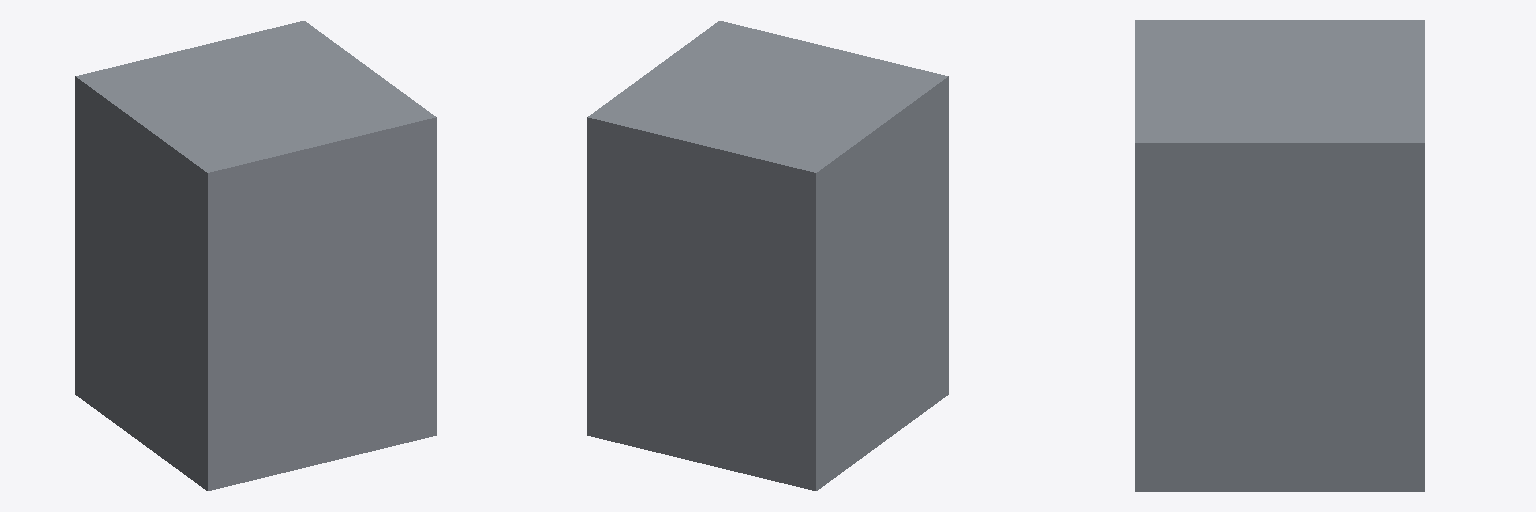
The robot description file, URDF, robot "voron24":
<?xml version="1.0"?>
<!--
  Generated from voron24.urdf.xacro with use_meshes:=false.
  Source: voron24-mock.tar.gz
  Target: Voron 2.4 R2 / 250 mm mock skeleton for Unity URDF Importer.

  Units: metres, radians, kilograms.
  The dimensions marked as estimates in voron24_params.xacro remain estimates.
-->
<robot name="voron24">

  <!-- Fixed frame, enclosure envelope, bed, electronics and Z motors. -->
  <link name="base_link">
    <visual>
      <origin xyz="0 0 0.2325" rpy="0 0 0"/>
      <geometry><box size="0.350 0.350 0.465"/></geometry>
      <material name="frame"><color rgba="0.60 0.62 0.65 0.20"/></material>
    </visual>
    <visual>
      <origin xyz="0 0 0.060" rpy="0 0 0"/>
      <geometry><box size="0.250 0.250 0.008"/></geometry>
      <material name="bed"><color rgba="0.13 0.13 0.16 1.0"/></material>
    </visual>
    <collision>
      <origin xyz="0 0 0.2325" rpy="0 0 0"/>
      <geometry><box size="0.350 0.350 0.465"/></geometry>
    </collision>
    <inertial>
      <origin xyz="0 0 0.1395" rpy="0 0 0"/>
      <mass value="12.0"/>
      <inertia ixx="0.338725" iyy="0.338725" izz="0.245"
               ixy="0" ixz="0" iyz="0"/>
    </inertial>
  </link>

  <!-- Flying gantry: the whole assembly moves along +Z. -->
  <link name="z_gantry">
    <visual>
      <origin xyz="0 0 0" rpy="0 0 0"/>
      <geometry><box size="0.330 0.330 0.030"/></geometry>
      <material name="voron_red"><color rgba="0.85 0.27 0.20 1.0"/></material>
    </visual>
    <collision>
      <origin xyz="0 0 0" rpy="0 0 0"/>
      <geometry><box size="0.330 0.330 0.030"/></geometry>
    </collision>
    <inertial>
      <origin xyz="0 0 0" rpy="0 0 0"/>
      <mass value="2.2"/>
      <inertia ixx="0.02013" iyy="0.02013" izz="0.03993"
               ixy="0" ixz="0" iyz="0"/>
    </inertial>
  </link>

  <joint name="joint_z" type="prismatic">
    <parent link="base_link"/>
    <child link="z_gantry"/>
    <origin xyz="0.0 0.0 0.2145" rpy="0 0 0"/>
    <axis xyz="0 0 1"/>
    <limit lower="0.0" upper="0.250" effort="200" velocity="0.05"/>
    <dynamics damping="5.0" friction="2.0"/>
  </joint>

  <!-- X extrusion moves along +Y. -->
  <link name="x_beam">
    <visual>
      <origin xyz="0 0 0" rpy="0 0 0"/>
      <geometry><box size="0.320 0.030 0.030"/></geometry>
      <material name="voron_blue"><color rgba="0.20 0.50 0.85 1.0"/></material>
    </visual>
    <collision>
      <origin xyz="0 0 0" rpy="0 0 0"/>
      <geometry><box size="0.320 0.030 0.030"/></geometry>
    </collision>
    <inertial>
      <origin xyz="0 0 0" rpy="0 0 0"/>
      <mass value="0.9"/>
      <inertia ixx="0.000135" iyy="0.0077475" izz="0.0077475"
               ixy="0" ixz="0" iyz="0"/>
    </inertial>
  </link>

  <joint name="joint_y" type="prismatic">
    <parent link="z_gantry"/>
    <child link="x_beam"/>
    <origin xyz="0.0 -0.125 0.012" rpy="0 0 0"/>
    <axis xyz="0 1 0"/>
    <limit lower="0.0" upper="0.250" effort="50" velocity="0.5"/>
    <dynamics damping="0.5" friction="0.2"/>
  </joint>

  <!-- Stealthburner/Clockwork2 mock box moves along +X. -->
  <link name="toolhead">
    <visual>
      <origin xyz="0 0.010 -0.030" rpy="0 0 0"/>
      <geometry><box size="0.055 0.060 0.090"/></geometry>
      <material name="toolhead_white"><color rgba="0.92 0.92 0.94 1.0"/></material>
    </visual>
    <collision>
      <origin xyz="0 0.010 -0.030" rpy="0 0 0"/>
      <geometry><box size="0.055 0.060 0.090"/></geometry>
    </collision>
    <inertial>
      <origin xyz="0 0.010 -0.030" rpy="0 0 0"/>
      <mass value="0.45"/>
      <inertia ixx="0.00043875" iyy="0.0004171875" izz="0.0002484375"
               ixy="0" ixz="0" iyz="0"/>
    </inertial>
  </link>

  <joint name="joint_x" type="prismatic">
    <parent link="x_beam"/>
    <child link="toolhead"/>
    <origin xyz="-0.125 0.0 0.0" rpy="0 0 0"/>
    <axis xyz="1 0 0"/>
    <limit lower="0.0" upper="0.250" effort="50" velocity="0.5"/>
    <dynamics damping="0.5" friction="0.2"/>
  </joint>

  <!-- Tool center point. No visual geometry. -->
  <link name="nozzle"/>
  <joint name="joint_nozzle" type="fixed">
    <parent link="toolhead"/>
    <child link="nozzle"/>
    <origin xyz="0.0 0.0085 -0.0520" rpy="0 0 0"/>
  </joint>

  <!-- G-code origin fixed to the bed; Voron 2.4 is not a bed slinger. -->
  <link name="bed_origin"/>
  <joint name="joint_bed_origin" type="fixed">
    <parent link="base_link"/>
    <child link="bed_origin"/>
    <origin xyz="-0.125 -0.125 0.0640" rpy="0 0 0"/>
  </joint>

</robot>

--- Render facts (derived) ---
3 views of the same robot in one strip: view 1: azimuth 30°, elevation 25°; view 2: azimuth 150°, elevation 25°; view 3: azimuth 270°, elevation 25° (orthographic).
Robot: voron24 — 6 links, 5 joints (3 prismatic, 2 fixed); root link base_link; default pose: all joints at 0.
Visible links, largest first — view 1: base_link; view 2: base_link; view 3: base_link.
Link boxes in pixels (x1=…): base_link: x1=75, y1=21, x2=436, y2=490; base_link: x1=587, y1=21, x2=948, y2=490; base_link: x1=1135, y1=20, x2=1424, y2=491.
Size in the robot's own frame: 0.35 by 0.35 by 0.465 metres.
Geometry: primitives only (box / cylinder / sphere), no mesh files.
